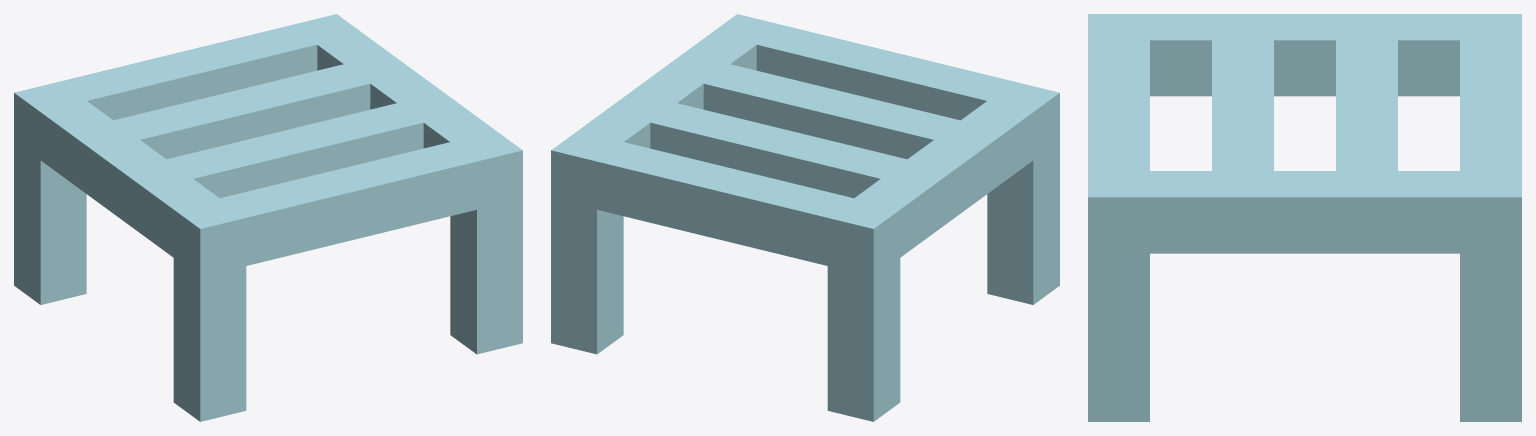
Rendered from Stand_big.obj.
3 renders of one model, left to right at view 1: azimuth 30°, elevation 25°; view 2: azimuth 150°, elevation 25°; view 3: azimuth 270°, elevation 25°, orthographic. The views are drawn at different scales.
Size of the model in its own units: 0.7 by 0.4 by 0.7.
